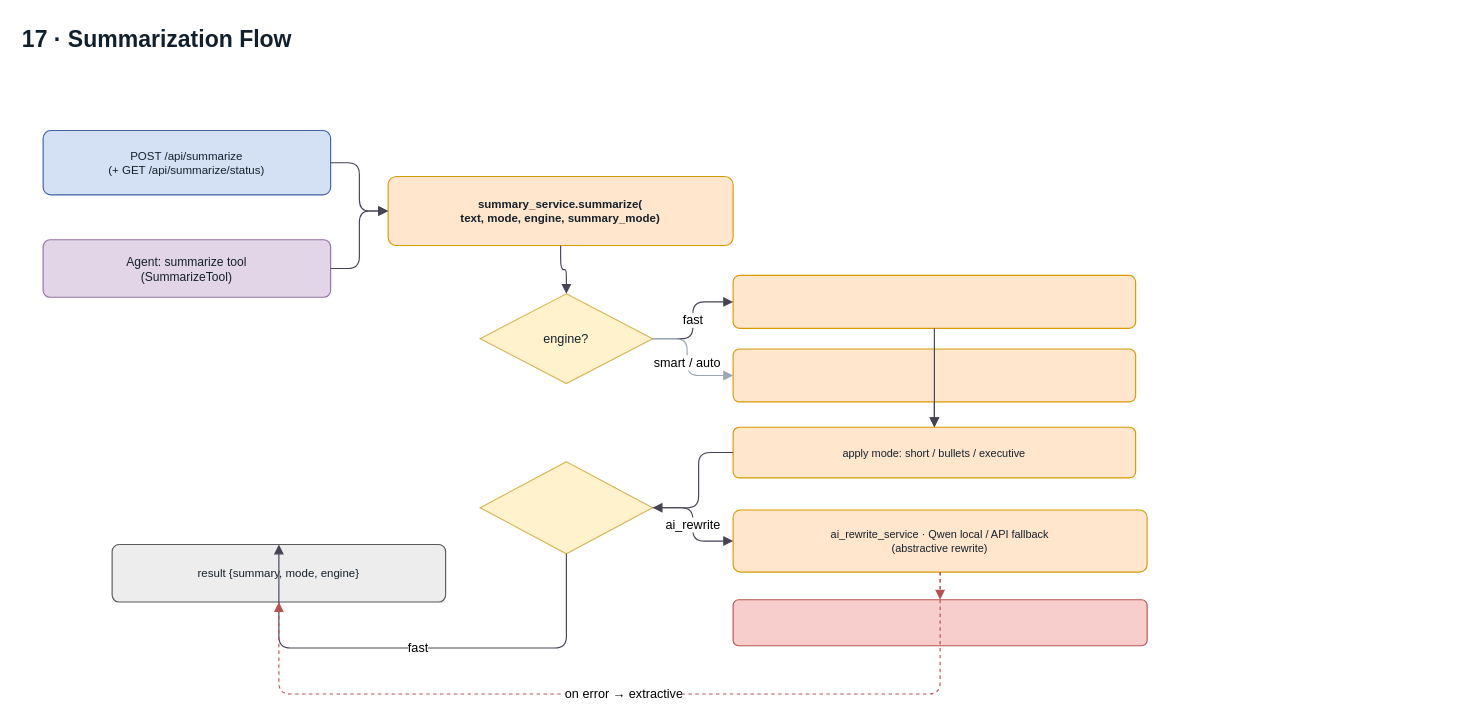
The diagram is 1465 pixels wide and 723 high, and some of its shapes have lost their labels. The box of each missing label's shape, as (x1, y1, x2, y2) in pixels:
fast: TF-IDF + TextRank (PageRank) + MMR: (732, 274, 1136, 328)
model warming → HTTP 202: (732, 599, 1147, 646)
smart: PhoBERT embeddings + MMR (VI): (732, 348, 1136, 402)
summary_mode?: (479, 461, 653, 554)
